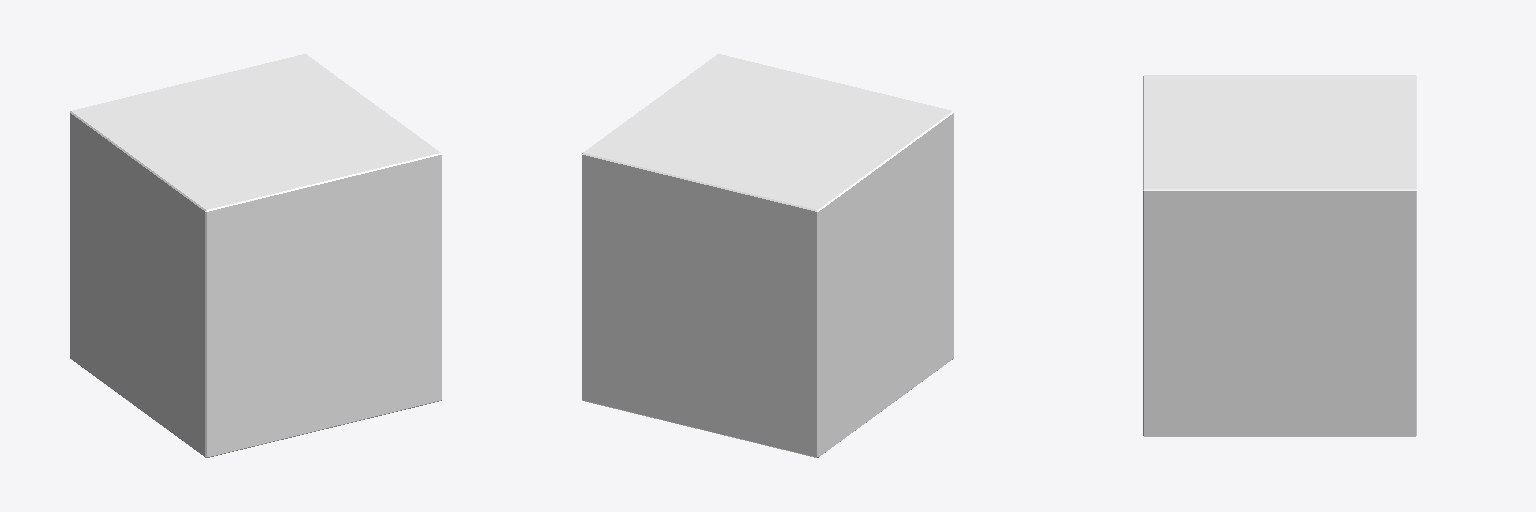
The picture shows the model from 3 angles: view 1: azimuth 30°, elevation 25°; view 2: azimuth 150°, elevation 25°; view 3: azimuth 270°, elevation 25°; orthographic projection.
Visible parts, largest first — view 1: cube1; view 2: cube1; view 3: cube1.
Part boxes in pixels (bbox=[...]): cube1: bbox=[70, 54, 441, 457]; cube1: bbox=[582, 54, 953, 457]; cube1: bbox=[1143, 75, 1416, 436].
Size of the model in its own units: 2 by 2 by 2.